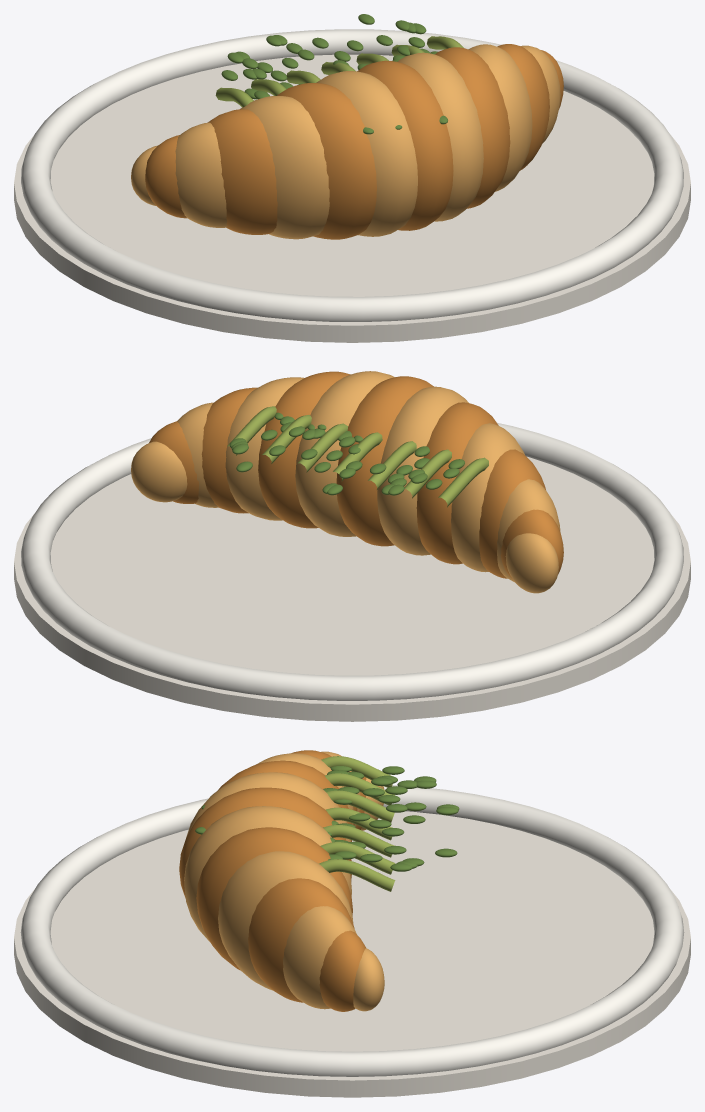
File: croissant.glb
The picture shows the model from 3 angles, top to bottom: view 1: azimuth 30°, elevation 25°; view 2: azimuth 150°, elevation 25°; view 3: azimuth 270°, elevation 25°; orthographic projection.
Parts seen in each view (by area): view 1: Stylized demo croissant; view 2: Stylized demo croissant; view 3: Stylized demo croissant.
Part boxes in pixels (x1=…): Stylized demo croissant: x1=14, y1=14, x2=690, y2=342; Stylized demo croissant: x1=14, y1=371, x2=690, y2=721; Stylized demo croissant: x1=14, y1=750, x2=690, y2=1097.
Bounding box in the file's own units: 2.5 × 0.668 × 2.5.
